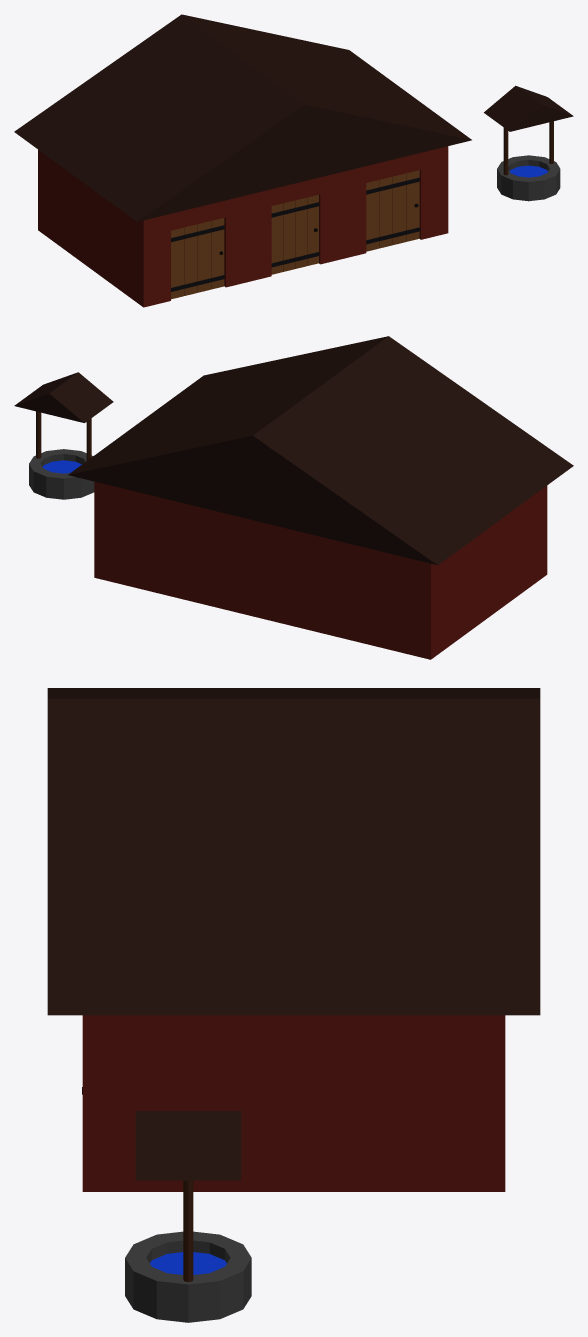
File: Rancho.obj
3 views of the same model, one above another, from view 1: azimuth 30°, elevation 25°; view 2: azimuth 150°, elevation 25°; view 3: azimuth 270°, elevation 25° (orthographic). The views are drawn at different scales.
Parts seen in each view (by area): view 1: Techo, Pared_Izquierda, Pared_Frente_3, Pared_Frente_2, Puerta_Establo2, Puerta_Establo1, Puerta_Principal, Pared_Frente_4, Pared_Frente_1, Pozo_Techo, Pozo_Base_Piedra, Pared_Dintel_1 (+2 smaller); view 2: Techo, Pared_Trasera, Pared_Izquierda, Pozo_Techo, Pozo_Base_Piedra, Pared_Frente_1; view 3: Techo, Pared_Derecha, Pozo_Base_Piedra, Pozo_Techo, Pared_Trasera, Pared_Frente_4, Pozo_Agua, Pozo_Poste_2.
Boxes of the visible parts, x1=… form: Techo: x1=14, y1=14, x2=471, y2=221; Pared_Izquierda: x1=41, y1=152, x2=141, y2=305; Pared_Frente_3: x1=319, y1=166, x2=366, y2=264; Pared_Frente_2: x1=224, y1=189, x2=271, y2=287; Puerta_Establo2: x1=366, y1=170, x2=419, y2=251; Puerta_Establo1: x1=171, y1=218, x2=224, y2=299; Puerta_Principal: x1=271, y1=194, x2=319, y2=274; Pared_Frente_4: x1=419, y1=146, x2=448, y2=239; Pared_Frente_1: x1=140, y1=214, x2=170, y2=307; Pozo_Techo: x1=484, y1=85, x2=573, y2=131; Pozo_Base_Piedra: x1=497, y1=155, x2=560, y2=201; Pared_Dintel_1: x1=171, y1=200, x2=225, y2=230; Techo: x1=68, y1=336, x2=573, y2=565; Pared_Trasera: x1=94, y1=481, x2=434, y2=659; Pared_Izquierda: x1=432, y1=488, x2=543, y2=657; Pozo_Techo: x1=14, y1=372, x2=113, y2=422; Pozo_Base_Piedra: x1=29, y1=449, x2=94, y2=499; Pared_Frente_1: x1=543, y1=485, x2=547, y2=576; Techo: x1=47, y1=688, x2=540, y2=1015; Pared_Derecha: x1=90, y1=1015, x2=497, y2=1191; Pozo_Base_Piedra: x1=125, y1=1231, x2=251, y2=1322; Pozo_Techo: x1=135, y1=1111, x2=241, y2=1180; Pared_Trasera: x1=491, y1=1015, x2=505, y2=1191; Pared_Frente_4: x1=82, y1=1015, x2=96, y2=1191; Pozo_Agua: x1=150, y1=1252, x2=226, y2=1274; Pozo_Poste_2: x1=183, y1=1180, x2=193, y2=1281.
Size of the model in its own units: 15.05 by 5.4 by 7.
